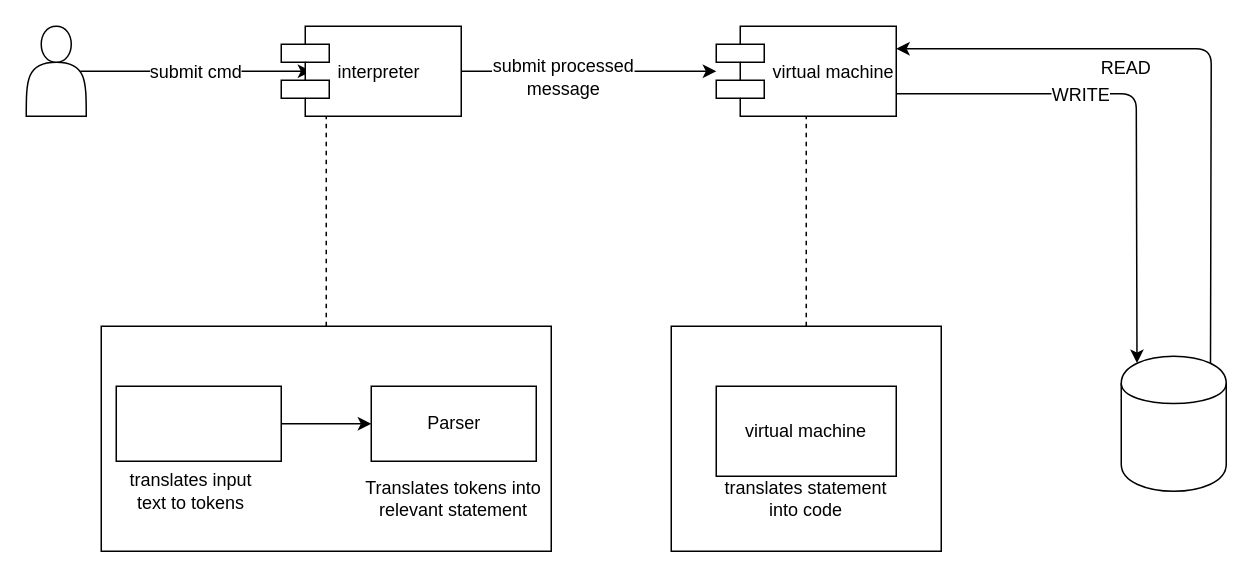
Image size: 1253x578. Some labels were removed from this diagram. The centre of each missing label's shape, as x and y in pixels:
"database.rdb" belongs at (x=1173, y=423).
"Scanner" belongs at (x=198, y=423).
